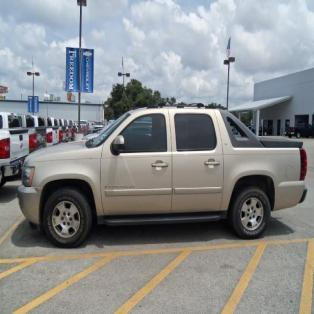Auto: (17, 107, 306, 248)
